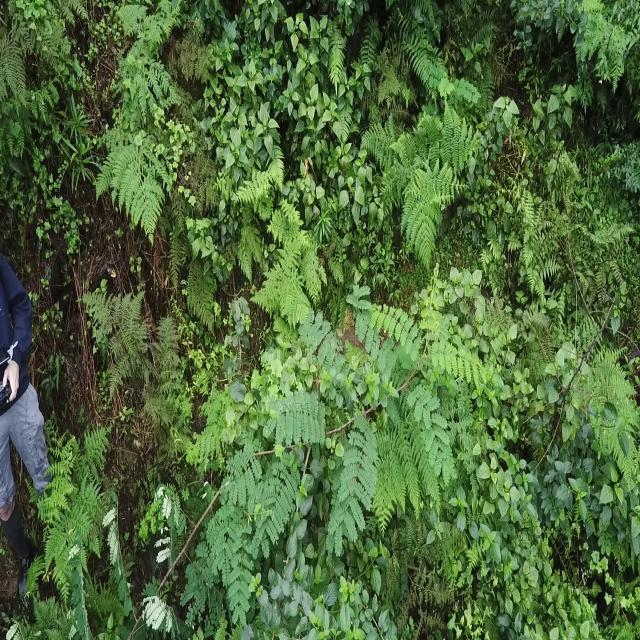Mysore-Thorn-Weed: (254, 288, 453, 557), (73, 438, 258, 636)
